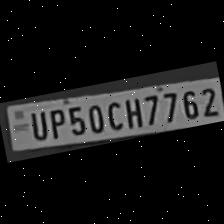0: (82, 100, 107, 134)
2: (194, 82, 220, 119)
5: (62, 102, 88, 138)
6: (175, 86, 200, 122)
7: (138, 90, 162, 127), (156, 88, 180, 124)
C: (102, 97, 126, 133)
H: (119, 94, 146, 130)
P: (43, 104, 67, 140)
U: (23, 108, 50, 142)
